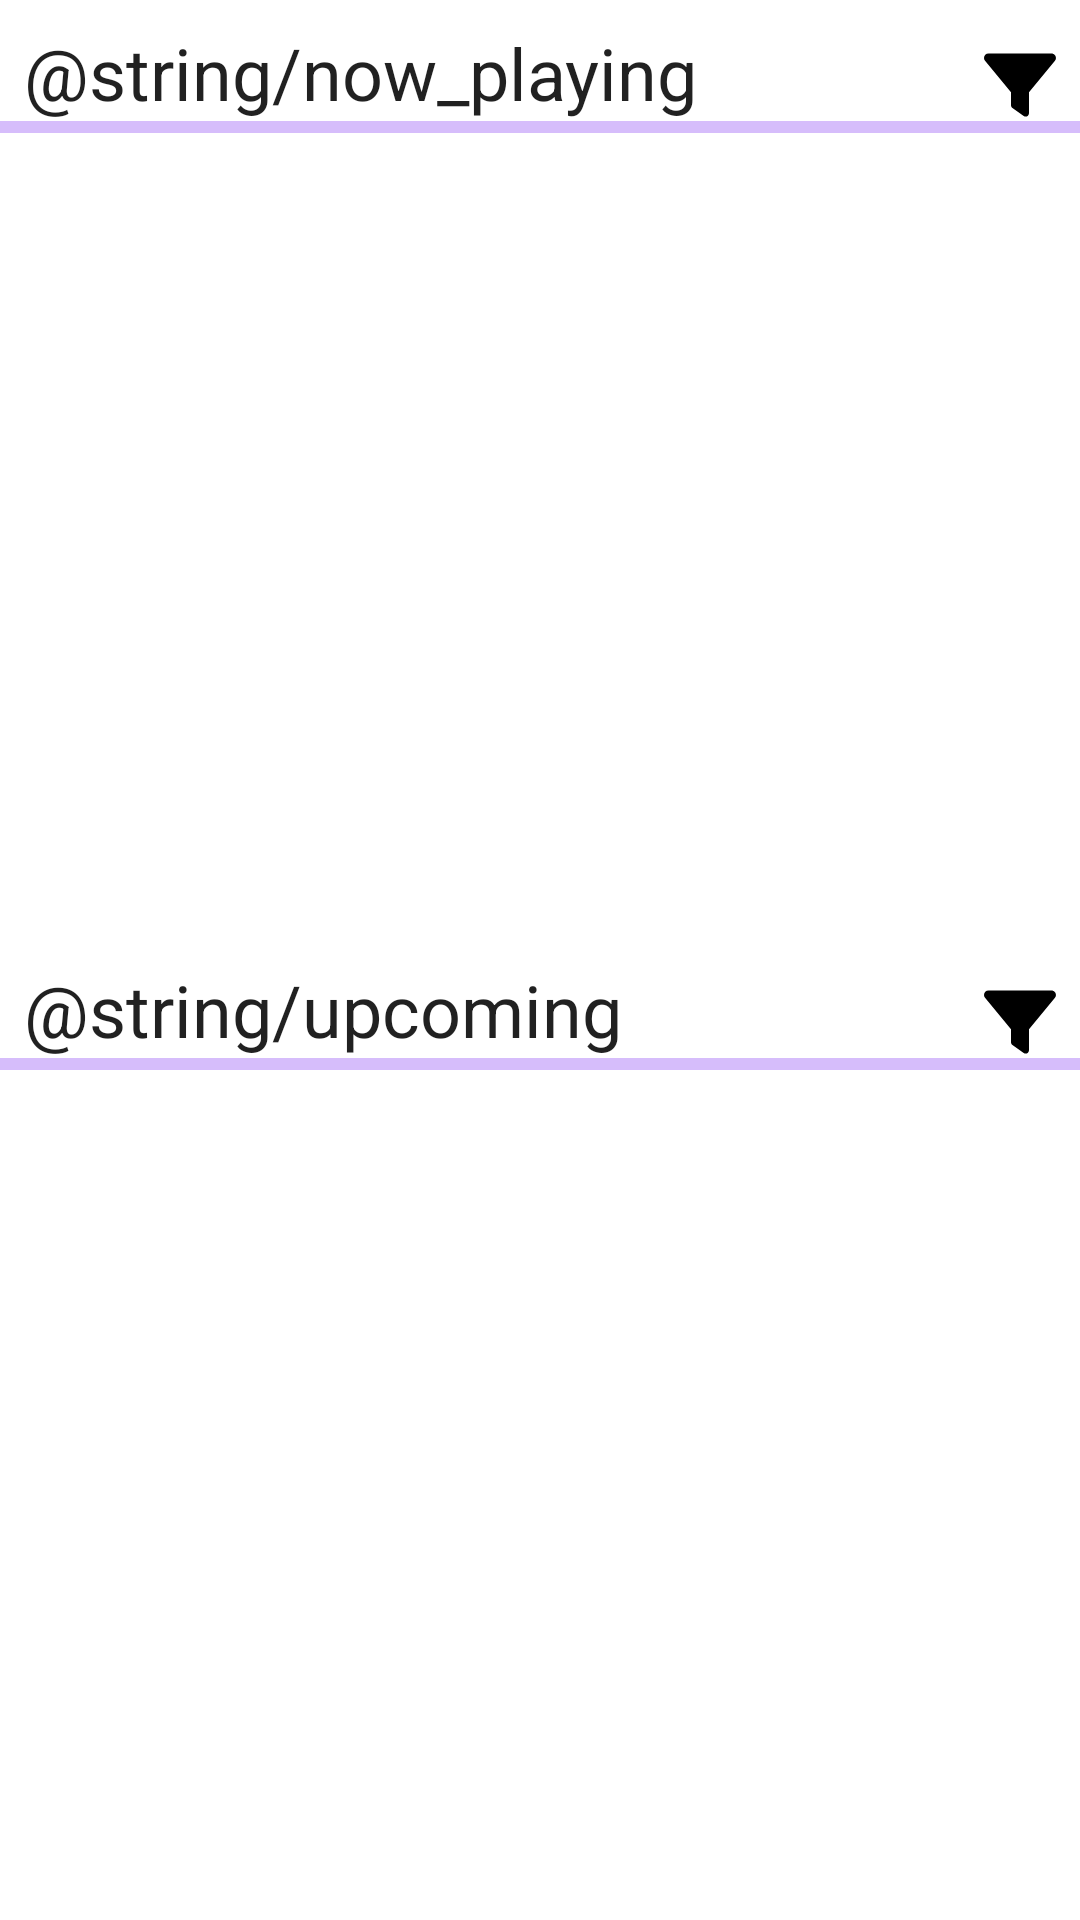

Point at icon controls on the screen. Image size 1080 × 1920, points as (x=x, y=y).
filter: (x=1020, y=85), (x=1020, y=1022)
